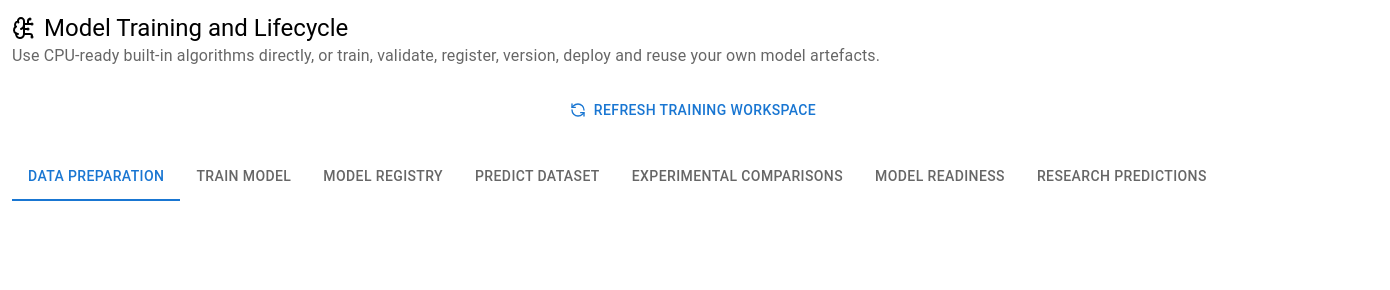
Test case: refreshes training workspace data
The image size is (1390, 290).
Click the button "Refresh training workspace" at (695, 110), box top-left (12, 92), bottom-right (1378, 128)
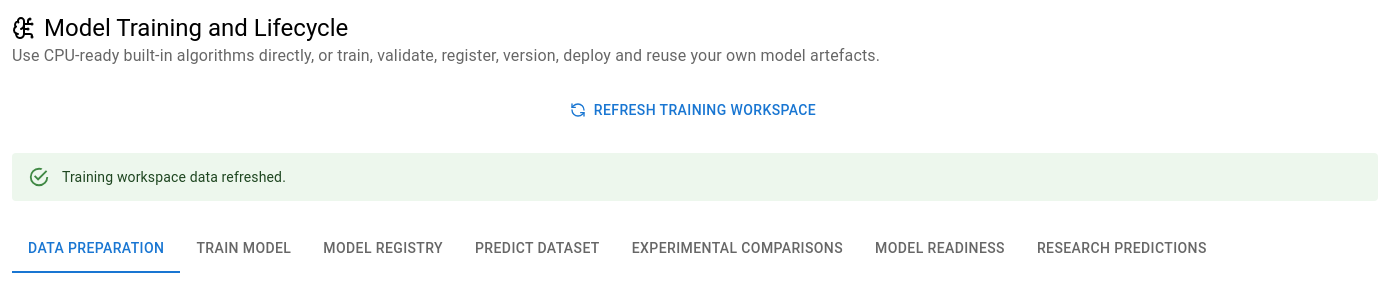
expect the text "Training workspace data refreshed." is shown: met, box top-left (62, 168), bottom-right (286, 184)
